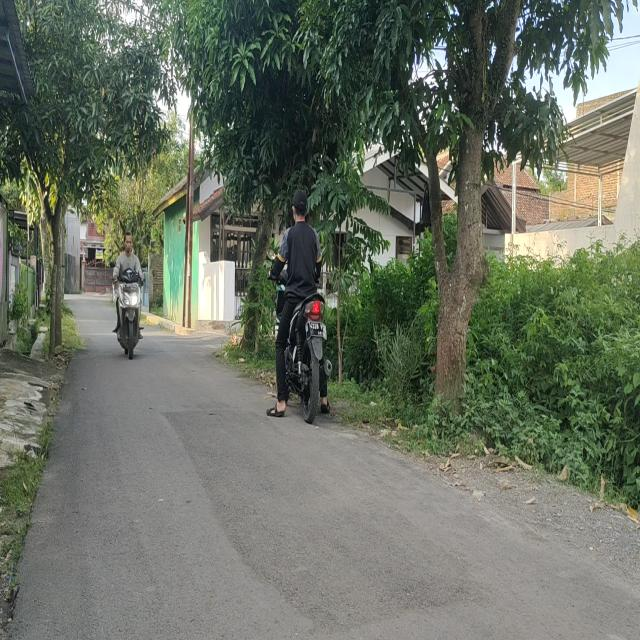no-helmet: (292, 189, 308, 223), (122, 229, 134, 254)
